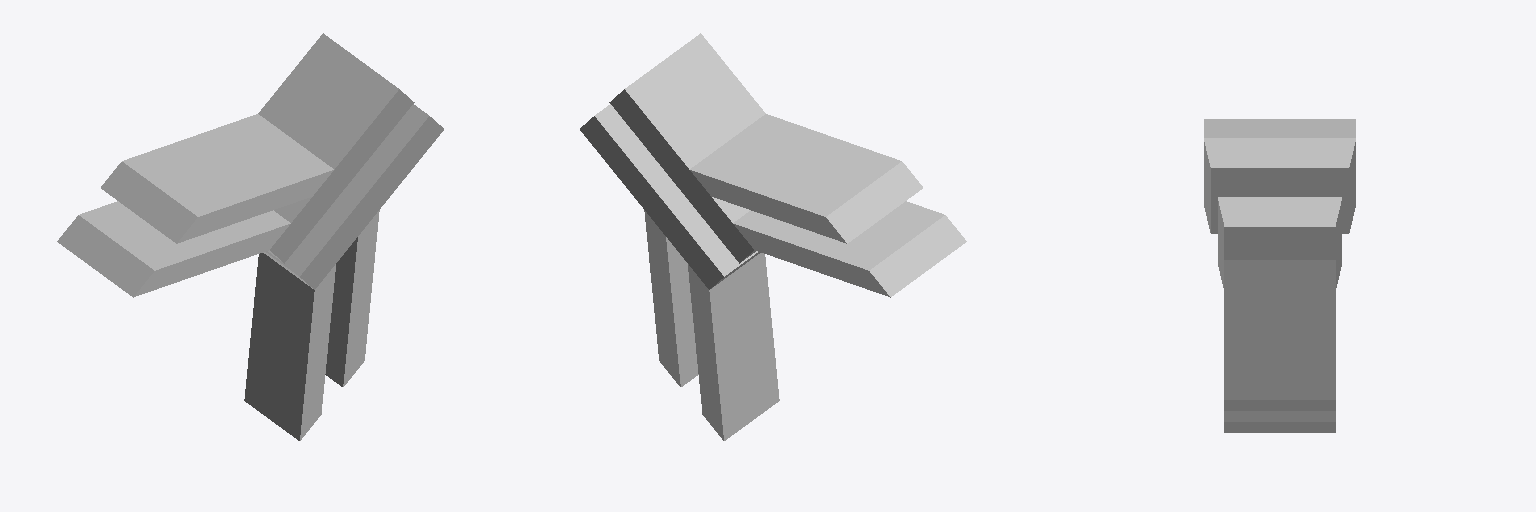
Rendered from New Antibody.obj.
3 renders of one model, left to right at view 1: azimuth 30°, elevation 25°; view 2: azimuth 150°, elevation 25°; view 3: azimuth 270°, elevation 25°, orthographic.
Parts seen in each view (by area): view 1: new_4; view 2: new_4; view 3: new_4.
Part boxes in pixels (left/top/right/bottom): new_4: left=57, top=33, right=443, bottom=440; new_4: left=580, top=33, right=966, bottom=440; new_4: left=1204, top=119, right=1355, bottom=432.
Size of the model in its own units: 1.22 by 1.22 by 0.5.